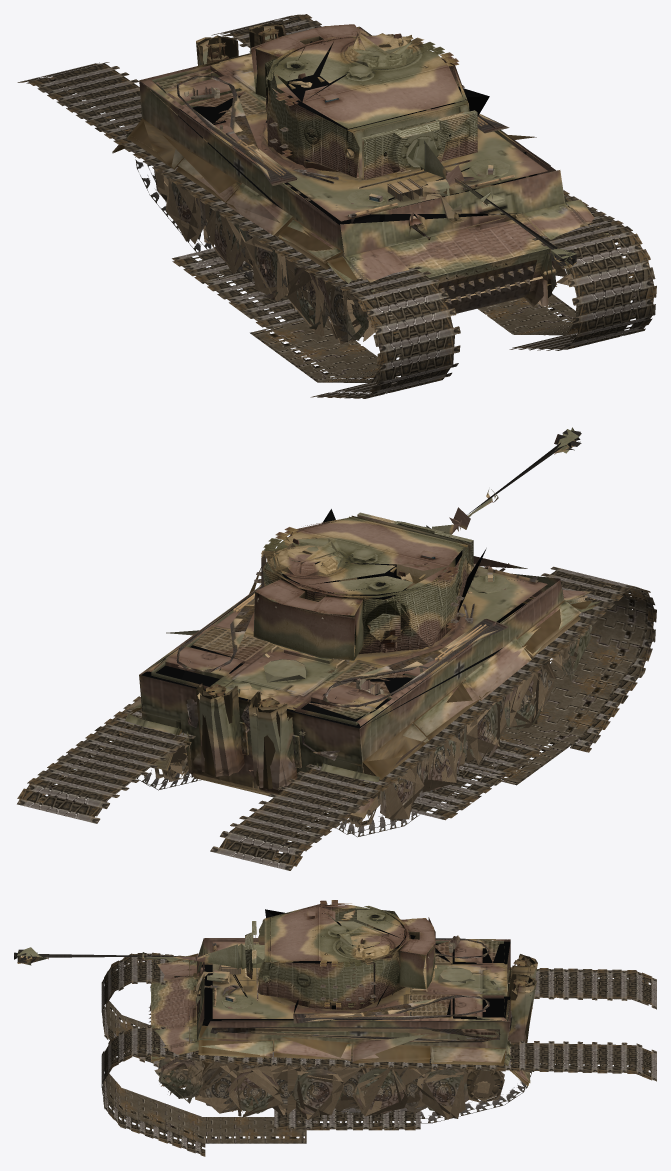
The model's file is tiger_i_late_42manako_m_lod2.glb.
The picture shows the model from 3 angles, top to bottom: view 1: azimuth 30°, elevation 25°; view 2: azimuth 150°, elevation 25°; view 3: azimuth 270°, elevation 25°; orthographic projection. The views are drawn at different scales.
Visible parts, largest first — view 1: hull, track1, turret, track2, mount, hull-rear, trk, storage-optiona, wheel18, wheel22, interior.002, wheel30 (+22 smaller); view 2: track1, hull, turret, hull-rear, track2, storage-optiona, excover2-optionb, grill-optionb, excover1-optionb, line02, excover1-optiona, wheel18 (+20 smaller); view 3: track2, turret, hull, track1, hull-rear, storage-optiona, cable3-optionb, wheel23, wheel19, wheel27, wheel31, skirt6-optionb (+24 smaller).
Part boxes in pixels (<box>): hull: <box>139,26,568,334</box>; track1: <box>17,62,460,398</box>; turret: <box>265,31,469,178</box>; track2: <box>211,14,656,350</box>; mount: <box>361,110,477,179</box>; hull-rear: <box>143,28,369,130</box>; trk: <box>438,259,537,313</box>; storage-optiona: <box>251,24,360,97</box>; wheel18: <box>287,267,331,336</box>; wheel22: <box>244,237,289,301</box>; interior.002: <box>265,41,489,223</box>; wheel30: <box>166,178,206,243</box>; track1: <box>210,566,656,870</box>; hull: <box>139,556,564,795</box>; turret: <box>261,515,473,654</box>; hull-rear: <box>143,624,427,768</box>; track2: <box>17,696,200,823</box>; storage-optiona: <box>253,579,363,660</box>; excover2-optionb: <box>197,685,244,776</box>; grill-optionb: <box>193,626,410,719</box>; excover1-optionb: <box>250,691,297,789</box>; line02: <box>139,645,421,728</box>; excover1-optiona: <box>248,691,296,790</box>; wheel18: <box>504,670,545,729</box>; track2: <box>101,1025,656,1156</box>; turret: <box>257,900,410,1009</box>; hull: <box>150,938,510,1087</box>; track1: <box>101,952,656,1067</box>; hull-rear: <box>403,935,512,1039</box>; storage-optiona: <box>399,917,435,989</box>; cable3-optionb: <box>210,1028,499,1042</box>; wheel23: <box>292,1059,344,1119</box>; wheel19: <box>227,1057,282,1117</box>; wheel27: <box>352,1067,408,1116</box>; wheel31: <box>417,1068,468,1119</box>; skirt6-optionb: <box>352,1033,430,1063</box>.
Bounding box in the file's own units: 4.13 × 3.38 × 10.69.
Materials: 9 (8 with a texture image).
